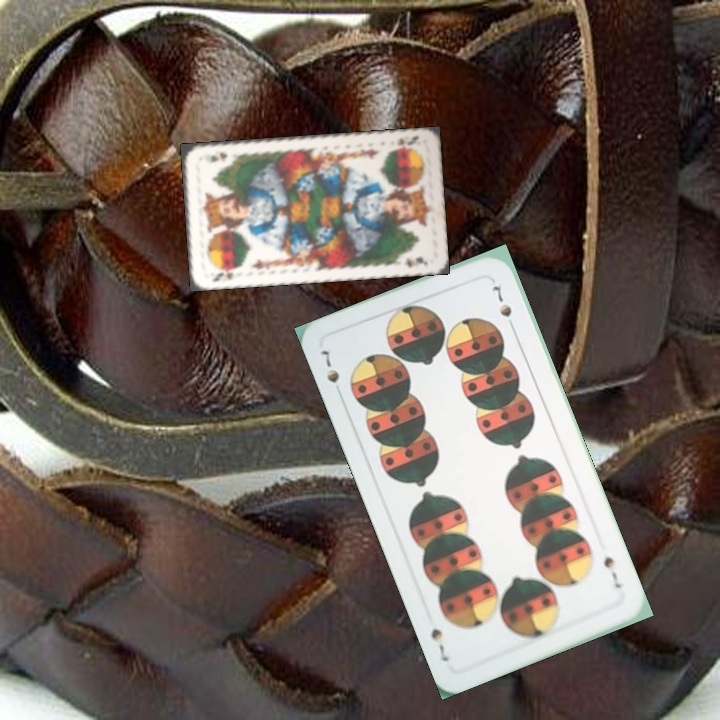S7: (315, 346, 342, 386), (599, 552, 624, 591)
SK: (208, 264, 243, 284), (388, 131, 421, 152)
